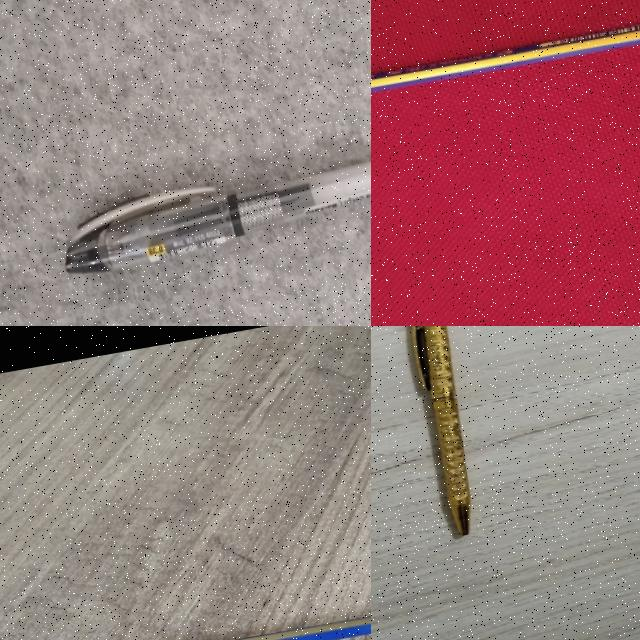pen: (66, 163, 370, 273)
pencil: (371, 24, 639, 93), (242, 617, 370, 639)
signature pen: (412, 326, 469, 535)
